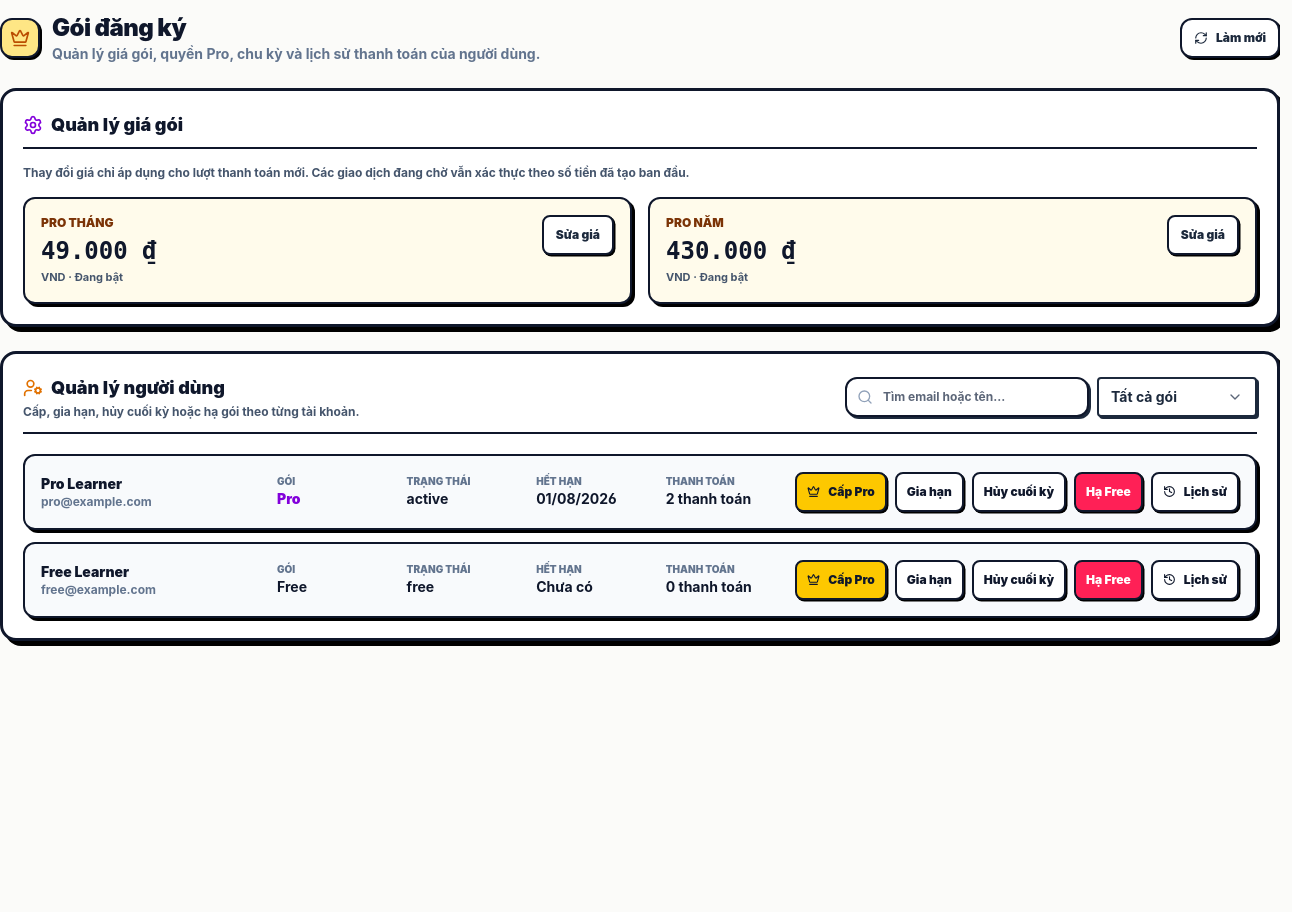
Test: AdminSubscriptionsPage › shows payment history for the selected user
Click the button "Lịch sử" in the row of "2 thanh toán": (1195, 492) [1151,472,1239,512]
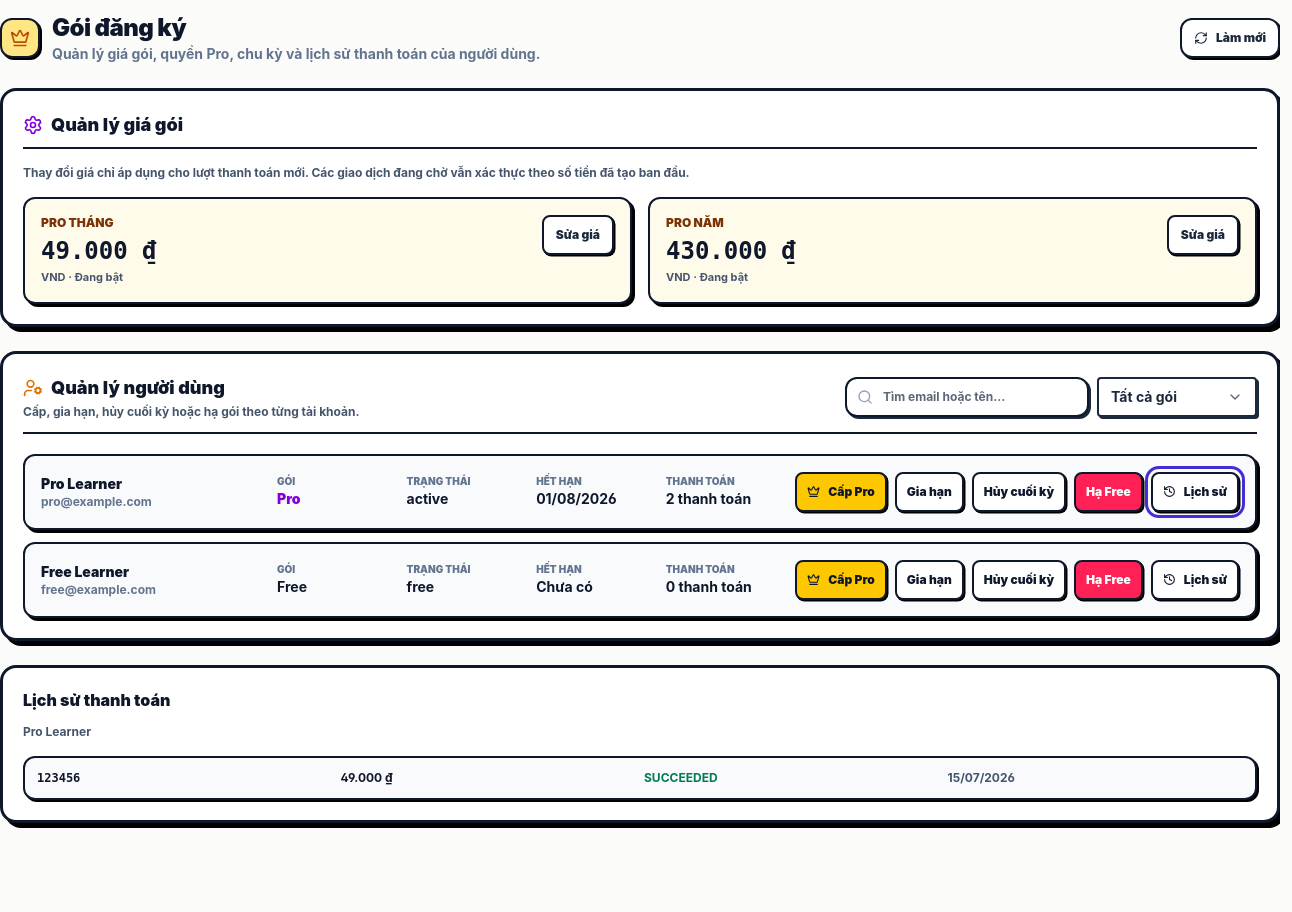
expect the heading "Lịch sử thanh toán" is shown: met, box [23,690,170,710]
expect the text "123456" is shown: met, box [37,770,80,784]
expect the text "49.000 ₫" next to "succeeded" is shown: met, box [340,770,393,784]
